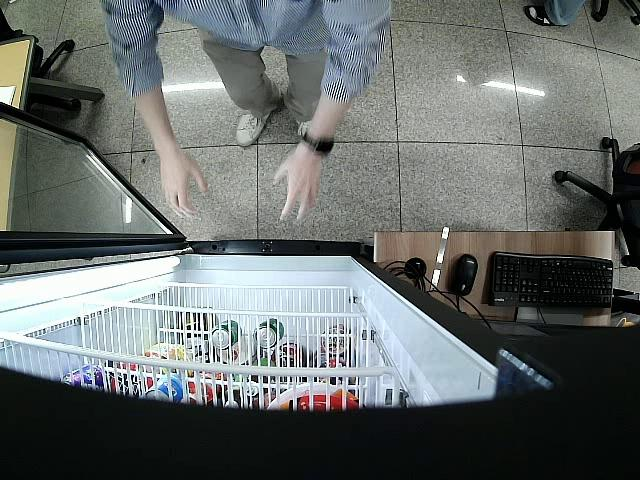00_hand: (271, 155, 319, 223), (162, 155, 206, 220)
